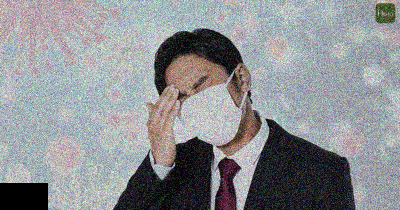with_mask: (172, 74, 246, 147)
